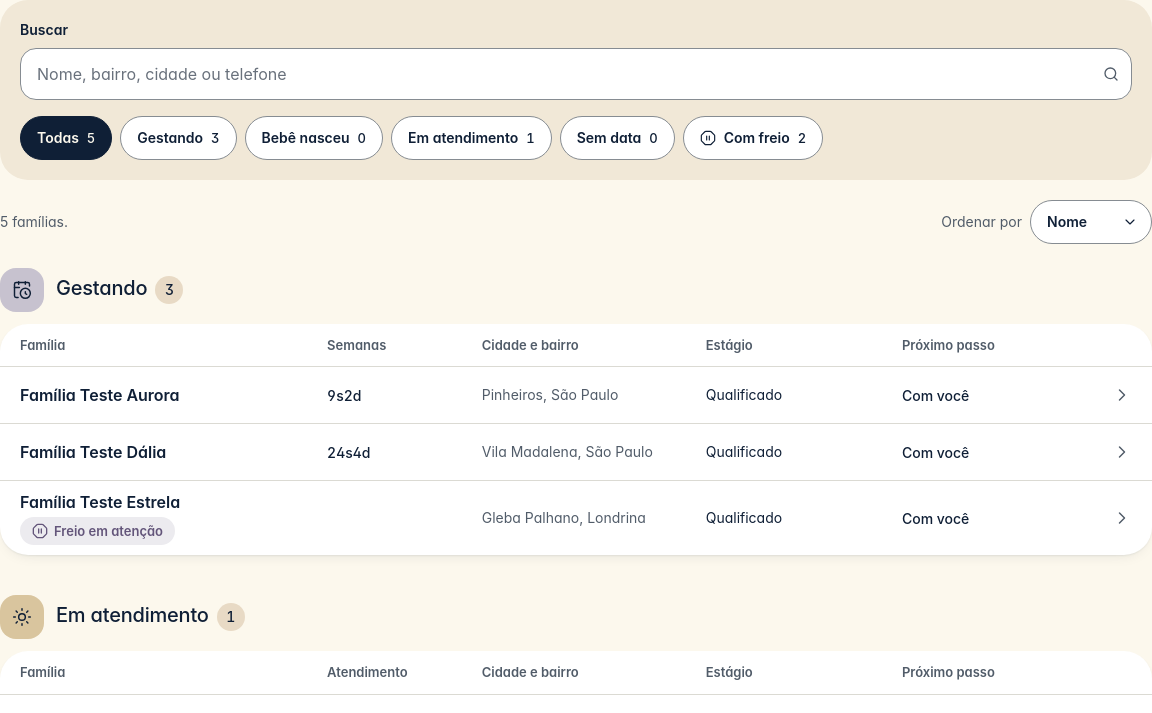
Scenario: ListaFamilias › o filtro Com freio mostra atenção e bloqueio; a família em bloqueio fica sem estágio
This screenshot has width=1152, height=713.
Click the button "Com freio 2".
click(753, 138)  # box [683, 116, 823, 160]
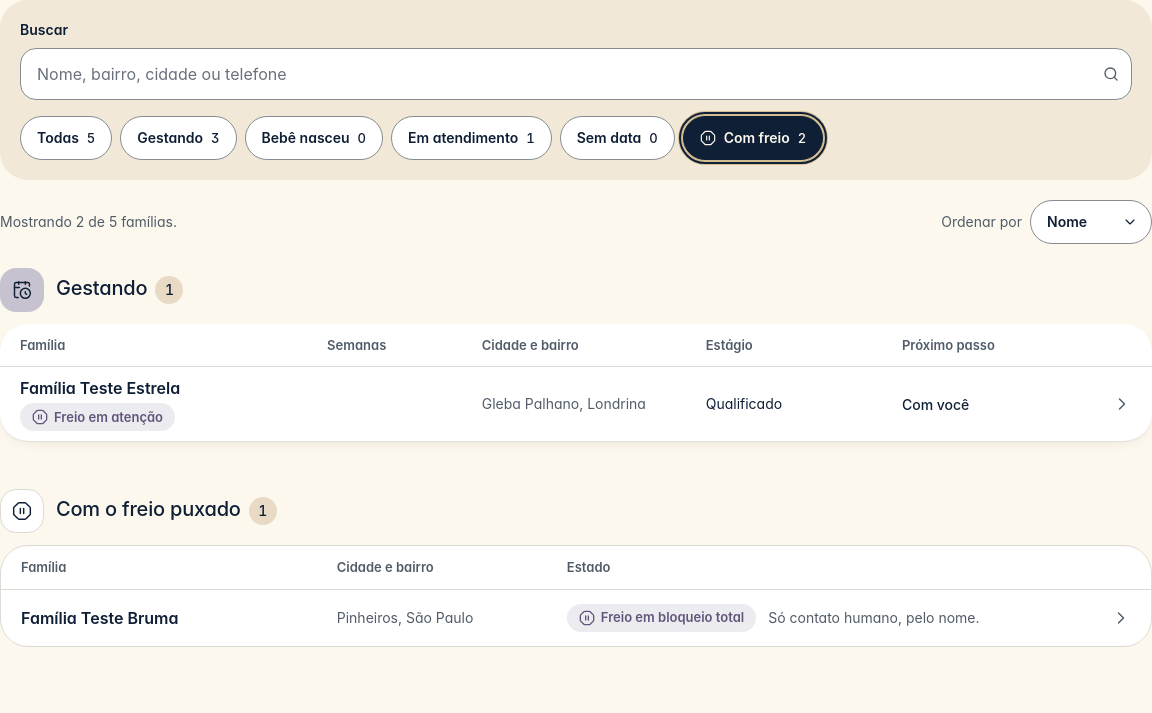
Check: the link "Família Teste Estrela" is shown, box [0, 368, 1151, 442]
Check: the link "Família Teste Aurora" is gone
